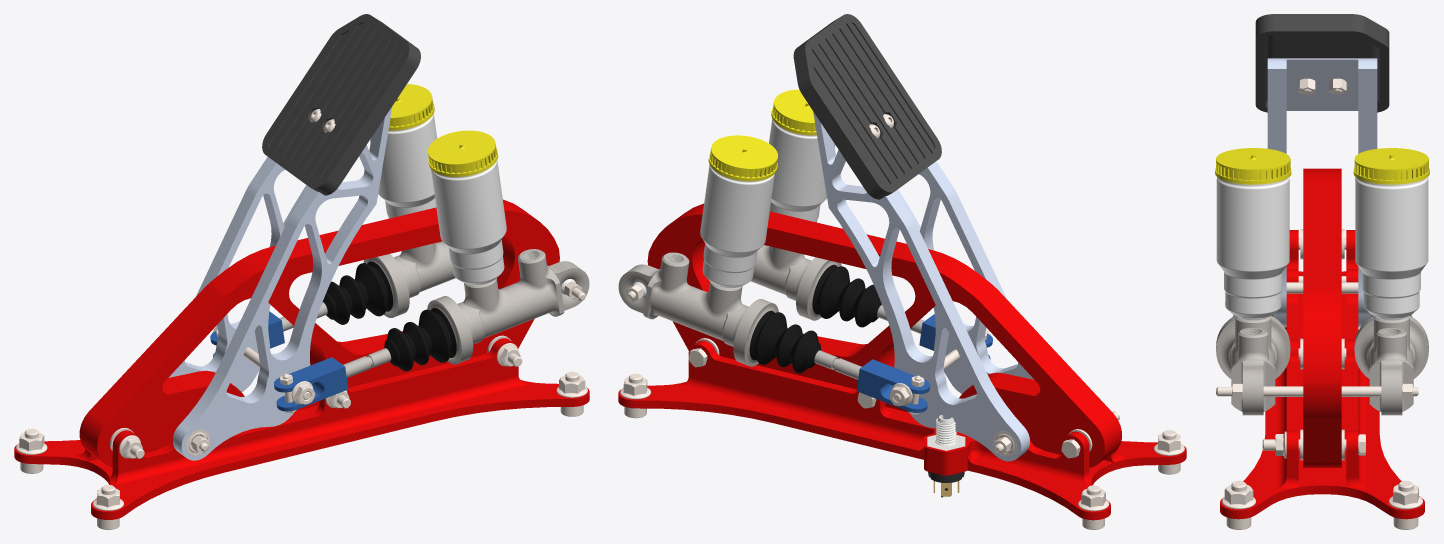
3 views of the same model, side by side, from view 1: azimuth 30°, elevation 25°; view 2: azimuth 150°, elevation 25°; view 3: azimuth 270°, elevation 25° (orthographic). The views are drawn at different scales.
Visible parts, largest first — view 1: Part 2, Part 4, Part 11, Part 12, Part 5, Part 3, Part 6, Part 13, Part 9, Part 7; view 2: Part 2, Part 4, Part 11, Part 12, Part 5, Part 6, Part 3, Part 13, Part 9, Part 7, Part 14; view 3: Part 2, Part 12, Part 5, Part 4, Part 11, Part 3, Part 13, Part 10.
Boxes of the visible parts, x1,y1,x2,y2 form: Part 2: (14, 199, 589, 519); Part 4: (168, 106, 392, 460); Part 11: (262, 14, 420, 195); Part 12: (370, 114, 506, 284); Part 5: (363, 241, 589, 364); Part 3: (16, 109, 587, 529); Part 6: (322, 261, 456, 371); Part 13: (388, 84, 498, 176); Part 9: (210, 311, 348, 411); Part 7: (279, 302, 391, 377); Part 2: (618, 203, 1186, 520); Part 4: (813, 111, 1034, 461); Part 11: (793, 14, 941, 199); Part 12: (700, 119, 835, 287); Part 5: (618, 245, 841, 366); Part 6: (749, 264, 881, 373); Part 3: (620, 114, 1184, 529); Part 13: (708, 89, 816, 181); Part 9: (856, 314, 992, 412); Part 7: (814, 305, 924, 379); Part 14: (927, 415, 965, 450); Part 2: (1220, 168, 1424, 519); Part 12: (1216, 177, 1428, 319); Part 5: (1216, 316, 1428, 415); Part 4: (1267, 58, 1377, 327); Part 11: (1255, 14, 1389, 112); Part 3: (1222, 78, 1422, 529); Part 13: (1215, 148, 1429, 184); Part 10: (1216, 386, 1418, 396).
Size of the model in its own units: 0.3281 by 0.2602 by 0.1125.
